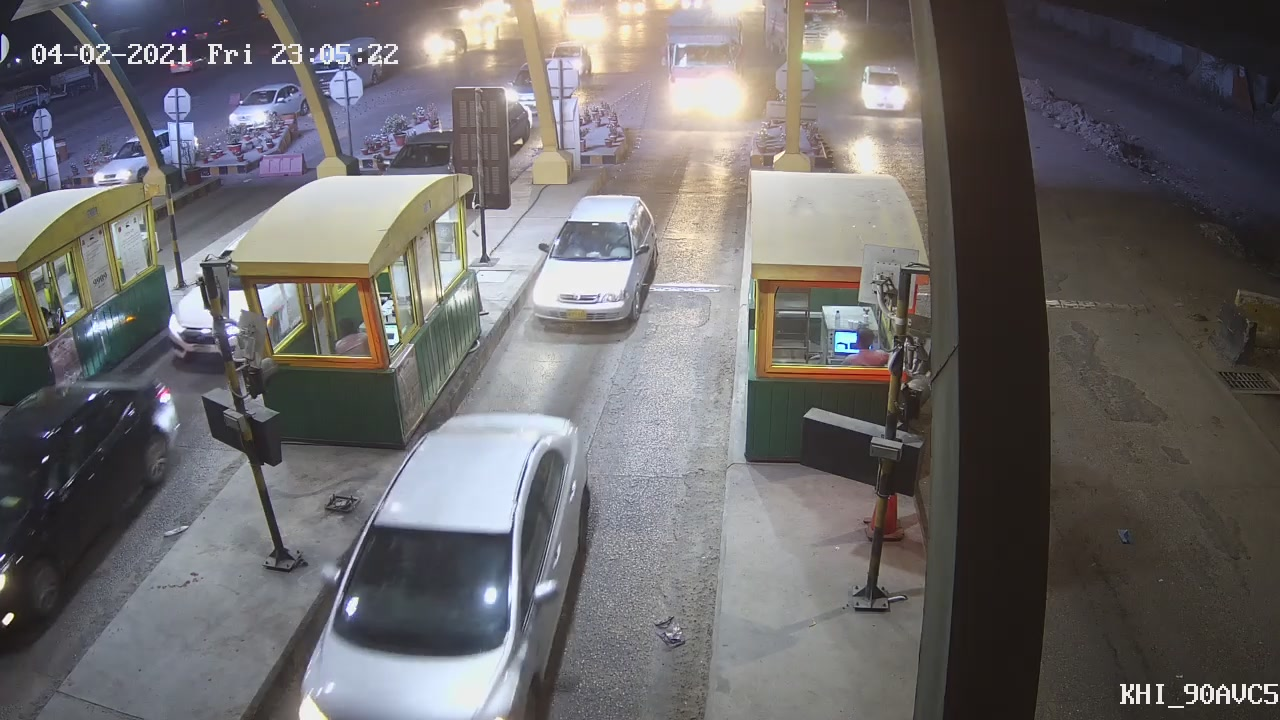F1: (523, 193, 666, 336)
